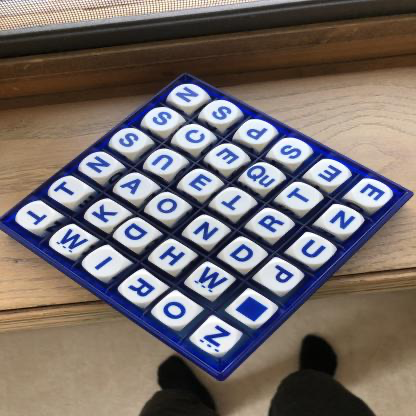a: (118, 173, 155, 201)
c: (176, 125, 214, 150)
d: (226, 241, 264, 270), (118, 221, 155, 249)
e: (354, 181, 392, 209), (312, 161, 350, 187), (183, 170, 219, 197), (210, 146, 247, 171)
h: (153, 243, 193, 272)
i: (85, 250, 125, 278)
k: (88, 201, 126, 228)
n: (188, 218, 226, 246), (324, 208, 362, 234), (82, 154, 118, 178), (173, 86, 205, 107)
o: (156, 296, 197, 327), (149, 195, 188, 221)
p: (261, 263, 301, 293), (239, 121, 277, 146)
qu: (245, 164, 283, 190)
r: (122, 275, 162, 304), (253, 212, 291, 238)
s: (204, 101, 240, 126), (274, 140, 310, 165), (113, 129, 148, 154), (147, 108, 180, 132)
t: (283, 184, 320, 212), (18, 204, 54, 230), (216, 190, 252, 216), (52, 178, 86, 204)
u: (294, 237, 333, 266), (148, 150, 184, 176)
w: (189, 266, 232, 297), (52, 226, 95, 256)
wild: (232, 293, 274, 326)
z: (197, 323, 239, 355)
